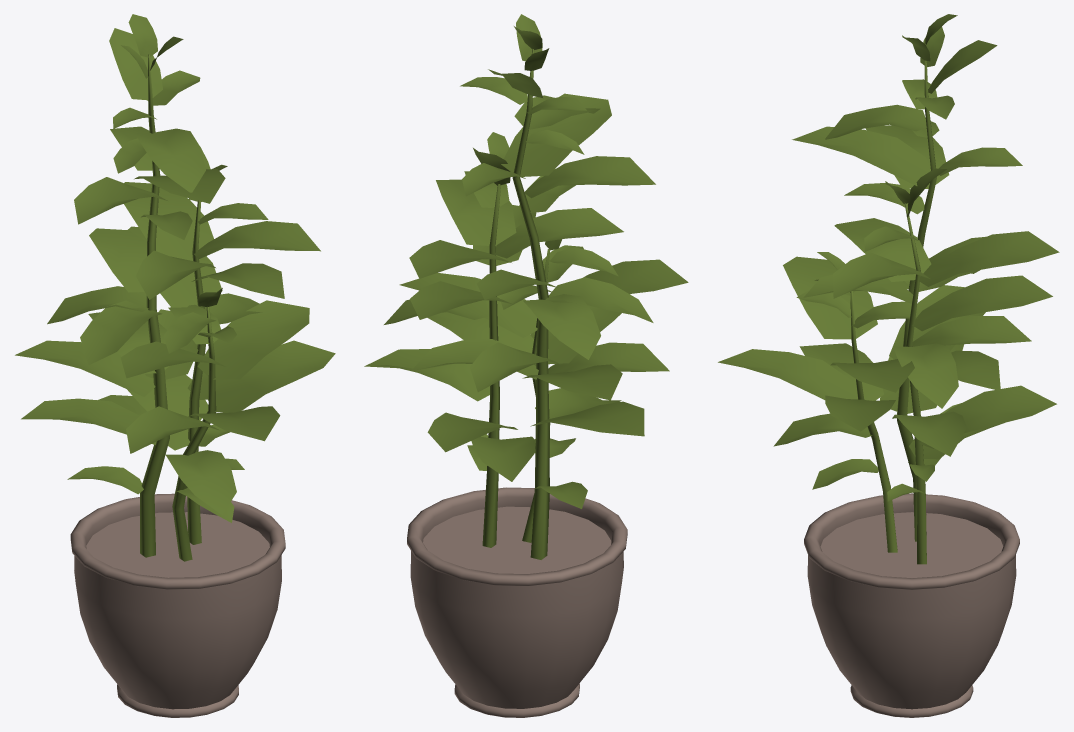
The picture shows the model from 3 angles, left to right: view 1: azimuth 30°, elevation 25°; view 2: azimuth 150°, elevation 25°; view 3: azimuth 270°, elevation 25°; orthographic projection. The views are drawn at different scales.
Visible parts, largest first — view 1: Mesh47, Mesh1, Mesh16, Mesh2, Mesh25, Mesh24, Mesh19, Mesh35, Mesh36, Mesh29, Mesh37, Mesh34 (+24 smaller); view 2: Mesh47, Mesh1, Mesh43, Mesh36, Mesh5, Mesh41, Mesh18, Mesh37, Mesh4, Mesh20, Mesh9, Mesh29 (+26 smaller); view 3: Mesh47, Mesh1, Mesh40, Mesh25, Mesh7, Mesh43, Mesh20, Mesh39, Mesh30, Mesh42, Mesh41, Mesh36 (+19 smaller).
Part boxes in pixels (bbox=[...]): Mesh47: bbox=[70, 493, 285, 717]; Mesh1: bbox=[140, 54, 216, 561]; Mesh16: bbox=[197, 300, 309, 379]; Mesh2: bbox=[207, 340, 335, 412]; Mesh25: bbox=[124, 182, 213, 260]; Mesh24: bbox=[135, 128, 205, 192]; Mesh19: bbox=[166, 450, 236, 515]; Mesh35: bbox=[15, 340, 155, 396]; Mesh36: bbox=[194, 221, 320, 259]; Mesh29: bbox=[80, 300, 162, 365]; Mesh37: bbox=[21, 398, 156, 444]; Mesh34: bbox=[89, 228, 146, 292]; Mesh47: bbox=[407, 487, 627, 717]; Mesh1: bbox=[482, 48, 550, 559]; Mesh43: bbox=[501, 93, 611, 176]; Mesh36: bbox=[436, 179, 516, 245]; Mesh5: bbox=[524, 156, 655, 198]; Mesh41: bbox=[494, 208, 623, 258]; Mesh18: bbox=[523, 294, 600, 359]; Mesh37: bbox=[530, 401, 644, 436]; Mesh4: bbox=[548, 342, 669, 373]; Mesh20: bbox=[583, 259, 688, 293]; Mesh9: bbox=[364, 349, 489, 401]; Mesh29: bbox=[548, 277, 653, 322]; Mesh47: bbox=[804, 493, 1019, 717]; Mesh1: bbox=[850, 43, 936, 564]; Mesh40: bbox=[912, 275, 1052, 331]; Mesh25: bbox=[918, 231, 1059, 286]; Mesh7: bbox=[718, 349, 857, 399]; Mesh43: bbox=[792, 126, 930, 185]; Mesh20: bbox=[783, 256, 877, 339]; Mesh39: bbox=[919, 385, 1056, 448]; Mesh30: bbox=[893, 343, 958, 408]; Mesh42: bbox=[912, 316, 1031, 346]; Mesh41: bbox=[834, 218, 931, 281]; Mesh36: bbox=[833, 252, 930, 298].
Bounding box in the file's own units: 0.8539 × 2 × 0.9302.
